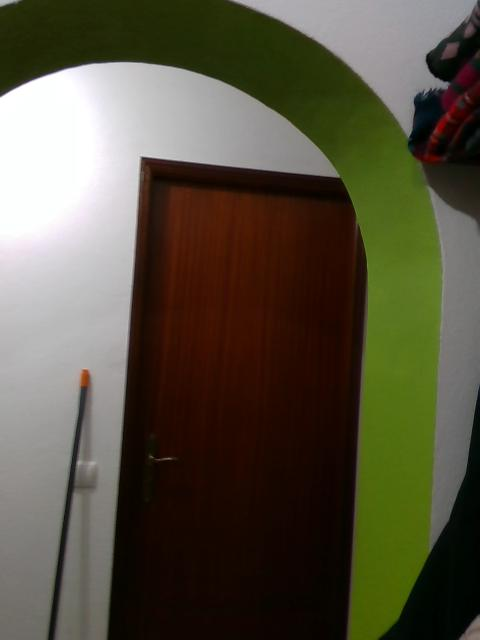door: (127, 180, 344, 640)
